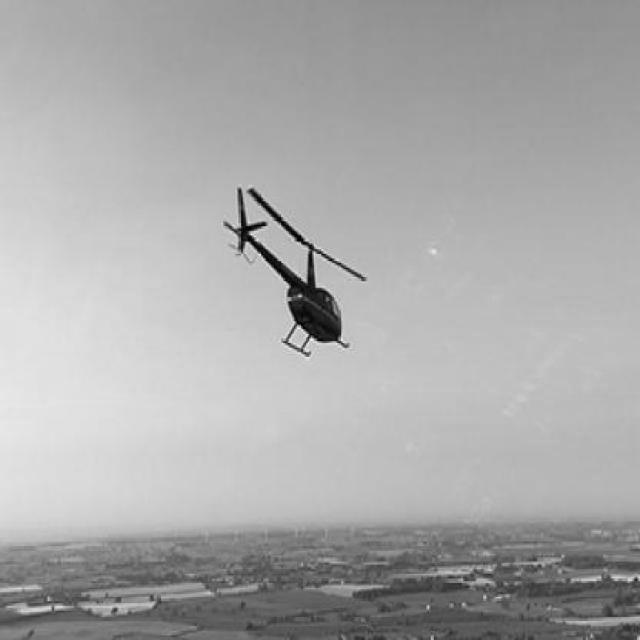helikopter: (217, 179, 368, 367)
